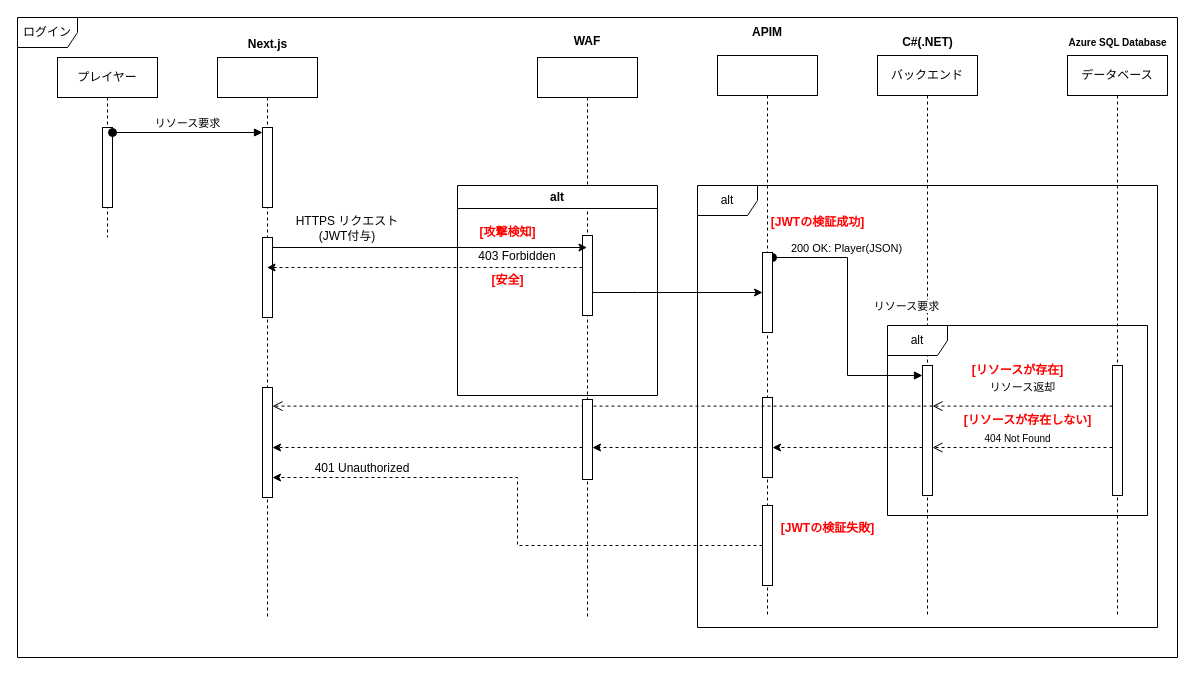
Image size: 1195x675. Some labels were removed from this diagram. The shapes that lost their labels are listed below. From the top down, each one's box as (x1, y1, x2, y2) in pixels, then its label:
(216, 56, 318, 618): フロントエンド
(536, 56, 638, 618): ファイアフォール
(716, 54, 818, 618): ゲートウェイ
